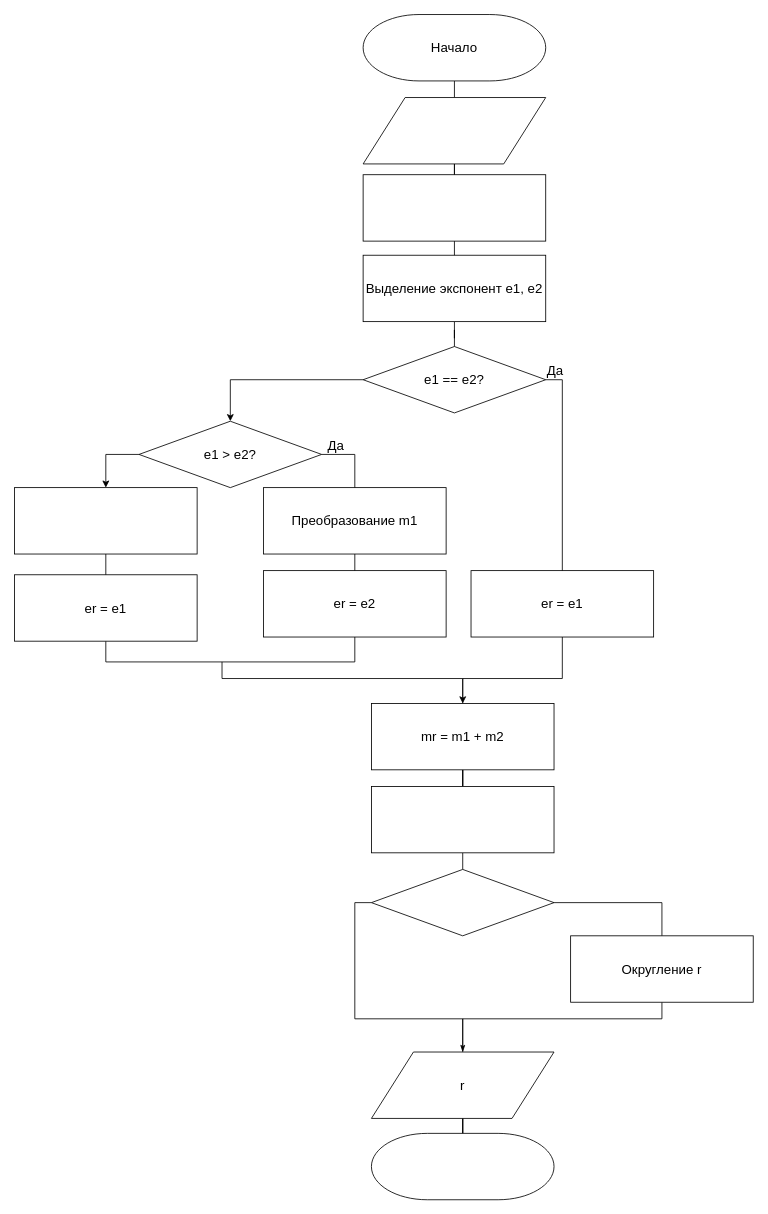
The diagram is 768 pixels wide and 1214 high, and some of its shapes have lost their labels. The shapes that lost their labels are listed below. From the top down, each one's centre as x and y in pixels, then its label:
At (x=454, y=130): "n1, n2".
At (x=454, y=207): "Выделение мантисс m1, m2".
At (x=105, y=520): "Преобразование m2".
At (x=462, y=819): "Нормализация r (mr и er)".
At (x=462, y=902): "В er переполнение?".
At (x=462, y=1166): "Конец".
